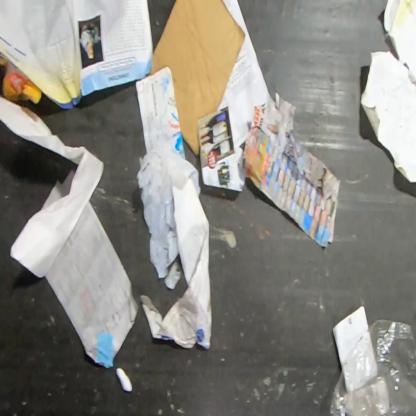cardboard: (148, 0, 245, 158), (134, 67, 187, 160), (332, 305, 369, 364), (2, 61, 42, 106)
soft_plastic: (320, 318, 415, 415), (136, 148, 201, 280)
